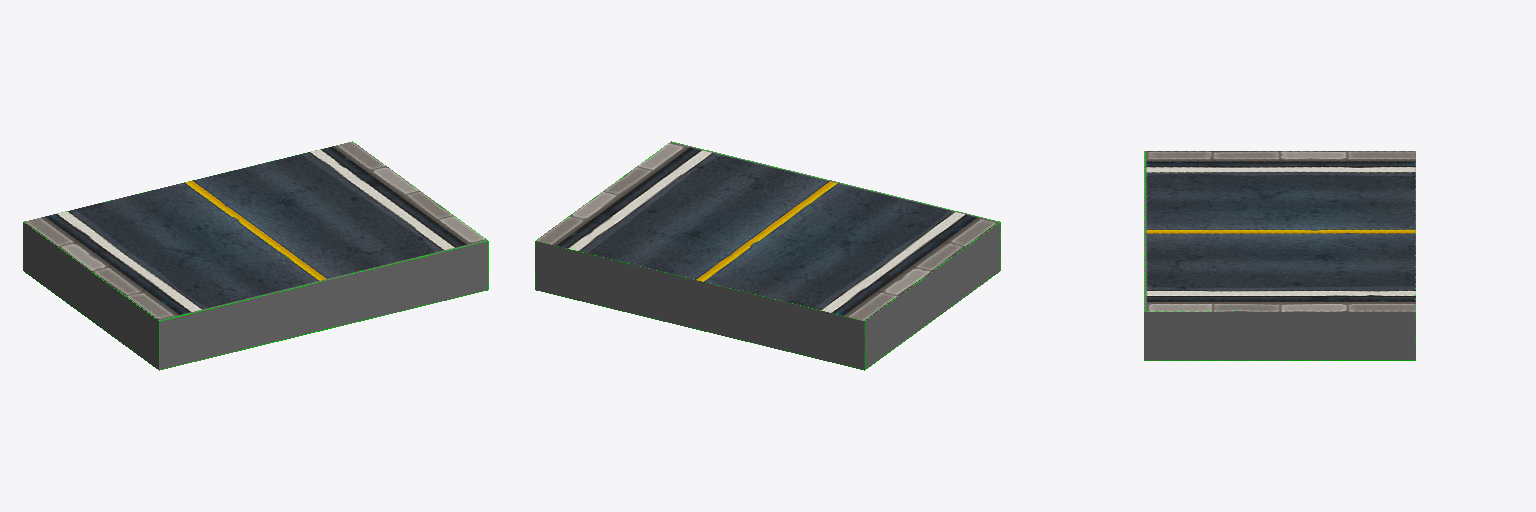
The picture shows the model from 3 angles: view 1: azimuth 30°, elevation 25°; view 2: azimuth 150°, elevation 25°; view 3: azimuth 270°, elevation 25°; orthographic projection.
Visible parts, largest first — view 1: Box001; view 2: Box001; view 3: Box001.
Boxes of the visible parts, <box> form: Box001: <box>23,141,488,370</box>; Box001: <box>535,141,1000,370</box>; Box001: <box>1144,151,1415,360</box>.
Bounding box in the file's own units: 7 × 1 × 5.
1 materials, 1 textured.